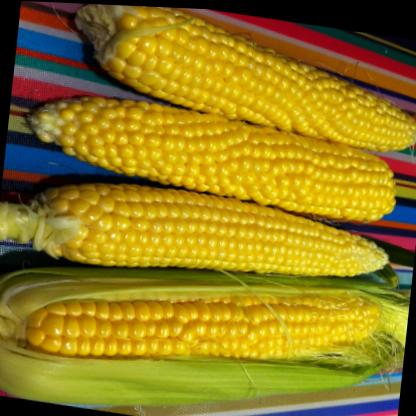---: (17, 242, 386, 416), (18, 71, 405, 233), (64, 2, 416, 145), (25, 163, 392, 299)
